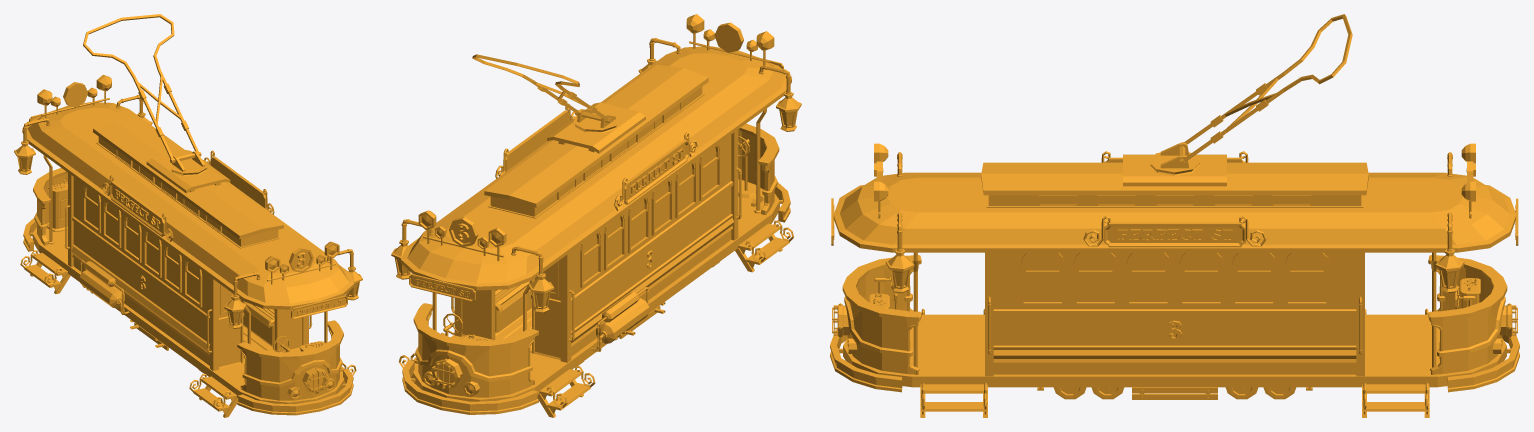
Rendered from tram-a-locomotive-steampunk.fbx.
3 views of the same model, side by side, from view 1: azimuth 30°, elevation 25°; view 2: azimuth 150°, elevation 25°; view 3: azimuth 270°, elevation 25° (orthographic). The views are drawn at different scales.
Visible parts, largest first — view 1: tram-a-locomotive-steampunk-base, tram-a-locomotive-steampunk-trolley-pole; view 2: tram-a-locomotive-steampunk-base, tram-a-locomotive-steampunk-trolley-pole; view 3: tram-a-locomotive-steampunk-base, tram-a-locomotive-steampunk-trolley-pole.
Part boxes in pixels (x1=…): tram-a-locomotive-steampunk-base: x1=14, y1=74, x2=362, y2=417; tram-a-locomotive-steampunk-trolley-pole: x1=83, y1=14, x2=201, y2=162; tram-a-locomotive-steampunk-base: x1=391, y1=14, x2=801, y2=417; tram-a-locomotive-steampunk-trolley-pole: x1=472, y1=54, x2=611, y2=123; tram-a-locomotive-steampunk-base: x1=830, y1=142, x2=1519, y2=417; tram-a-locomotive-steampunk-trolley-pole: x1=1179, y1=14, x2=1352, y2=165.
Bounding box in the file's own units: 3.18 × 5.68 × 10.11.
